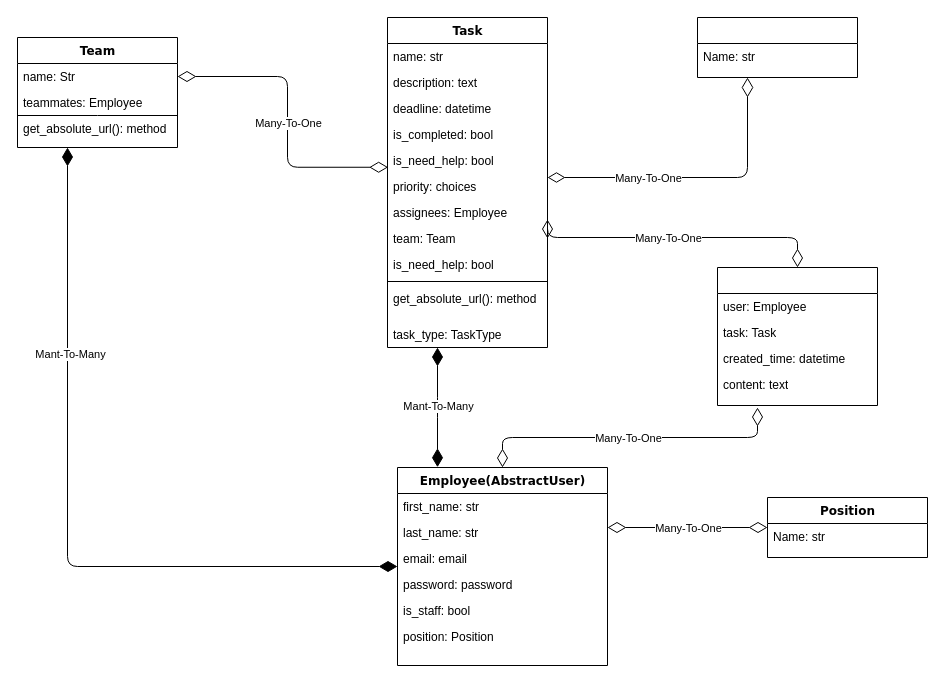
Image size: 945x683. Some labels were removed from this diagram. The shapes that lost their labels are listed below. From the top down, each one's box as (x1, y1, x2, y2) in pixels, then its label:
(696, 16, 858, 78): Task Type
(716, 266, 878, 406): Commentary
